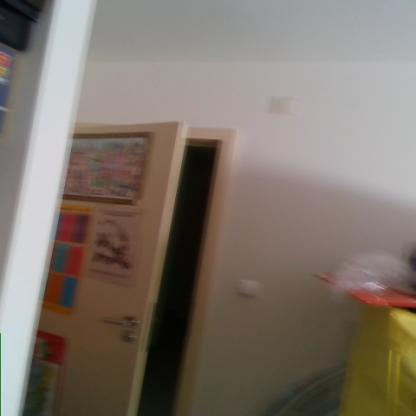semi: (31, 110, 242, 416)
